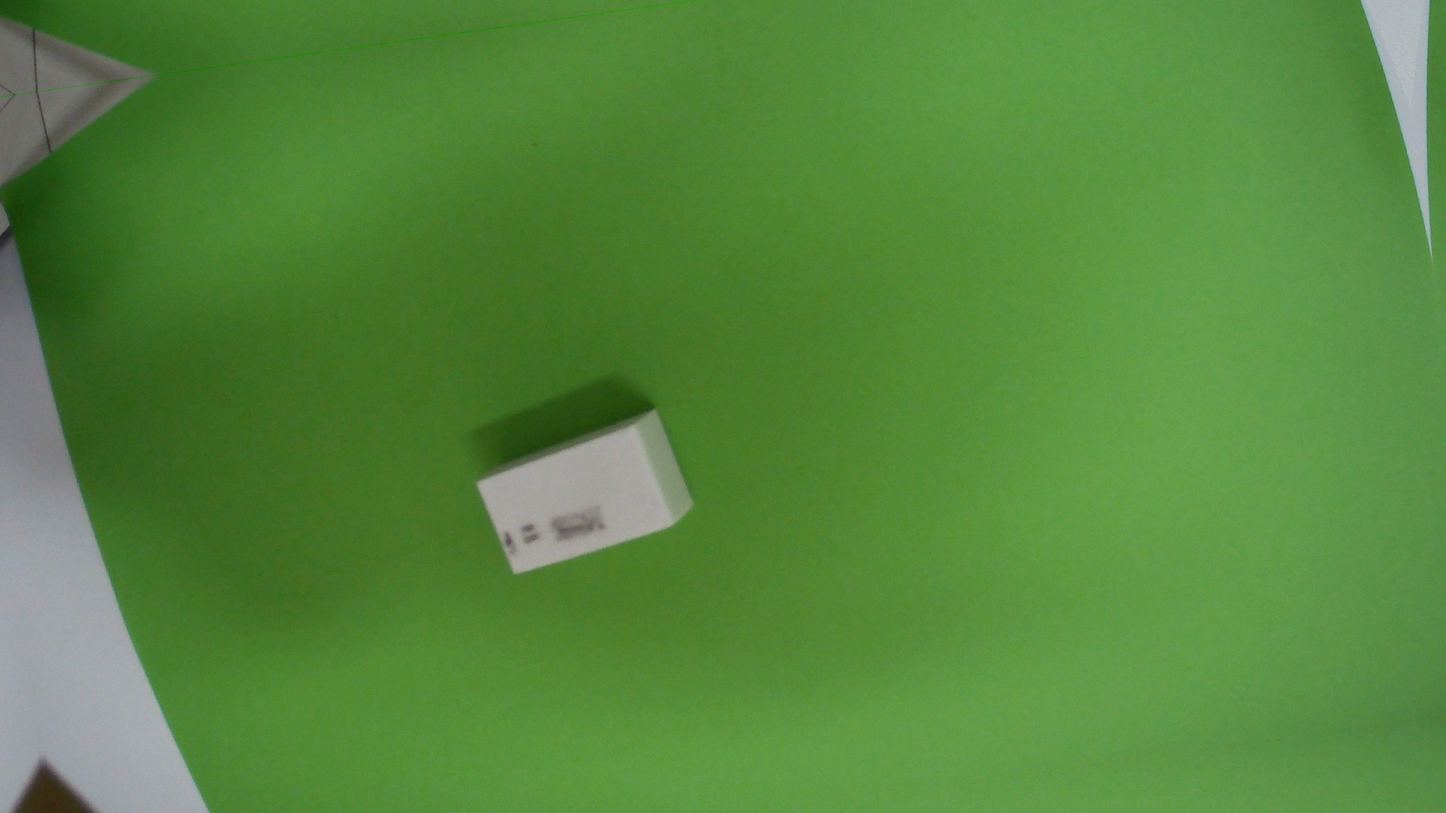gom: (471, 398, 699, 585)
